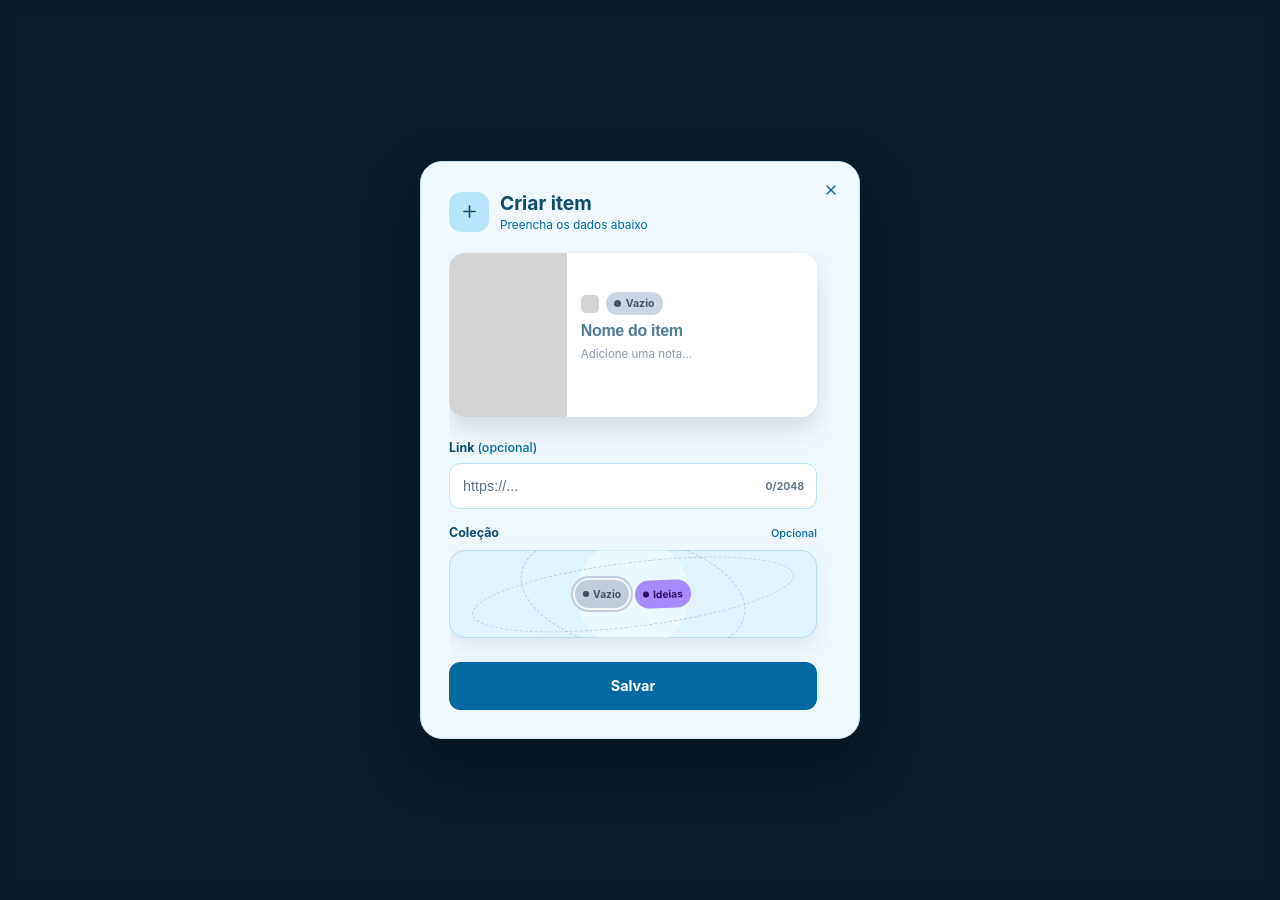
Scenario: ItemDialog › seleciona uma coleção existente sem exibir editor ou paleta de cores
Click the button "Ideias" at (663, 594), box [634,579,691,609]
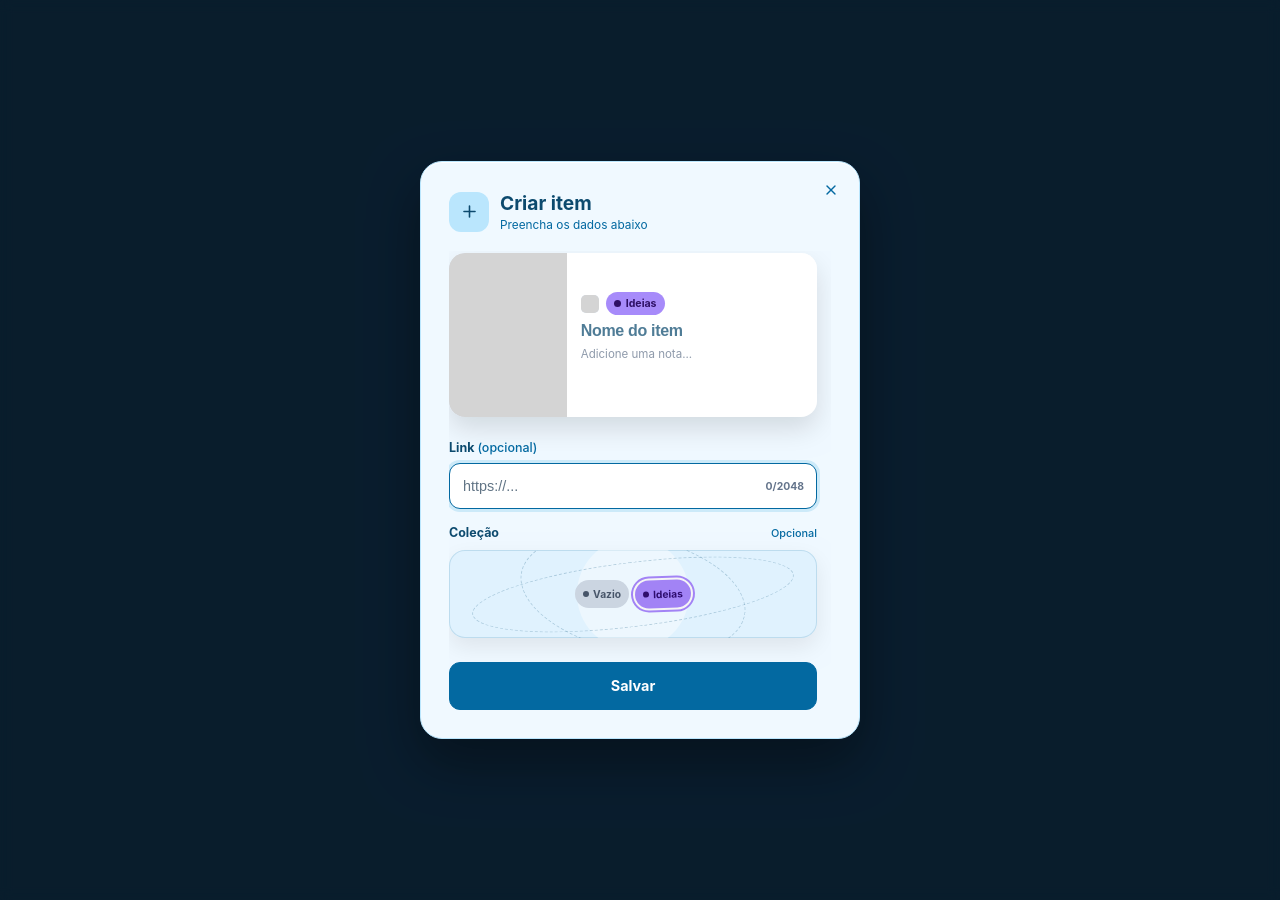
Expected: the 1st text "Ideias" is shown, [626,297,657,310]
